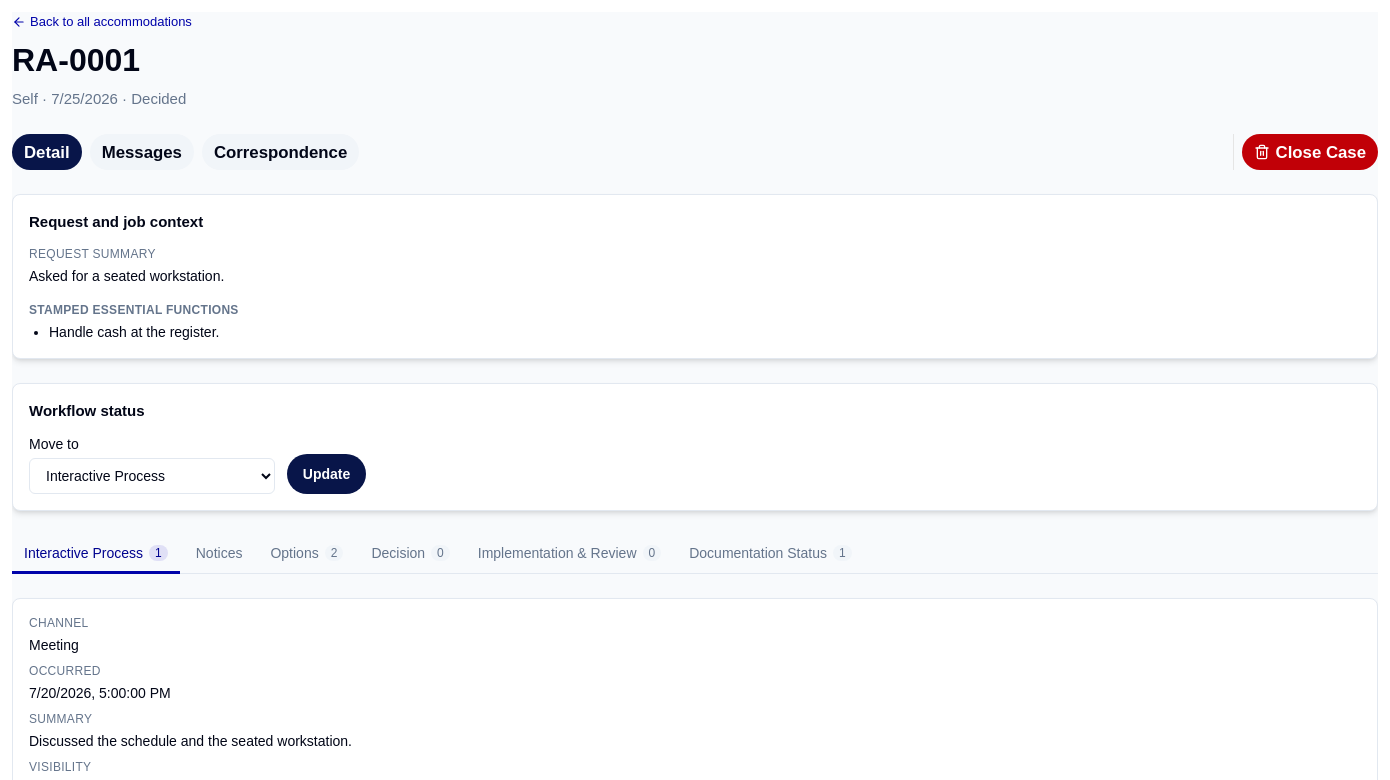
the restricted medical surface is Platform Admin / HR Partner only › renders the record-and-reveal surface for Platform Admin
The width and height of the screenshot is (1390, 780).
Click the tab "Documentation status 1" at (770, 555), box [677, 535, 864, 574]
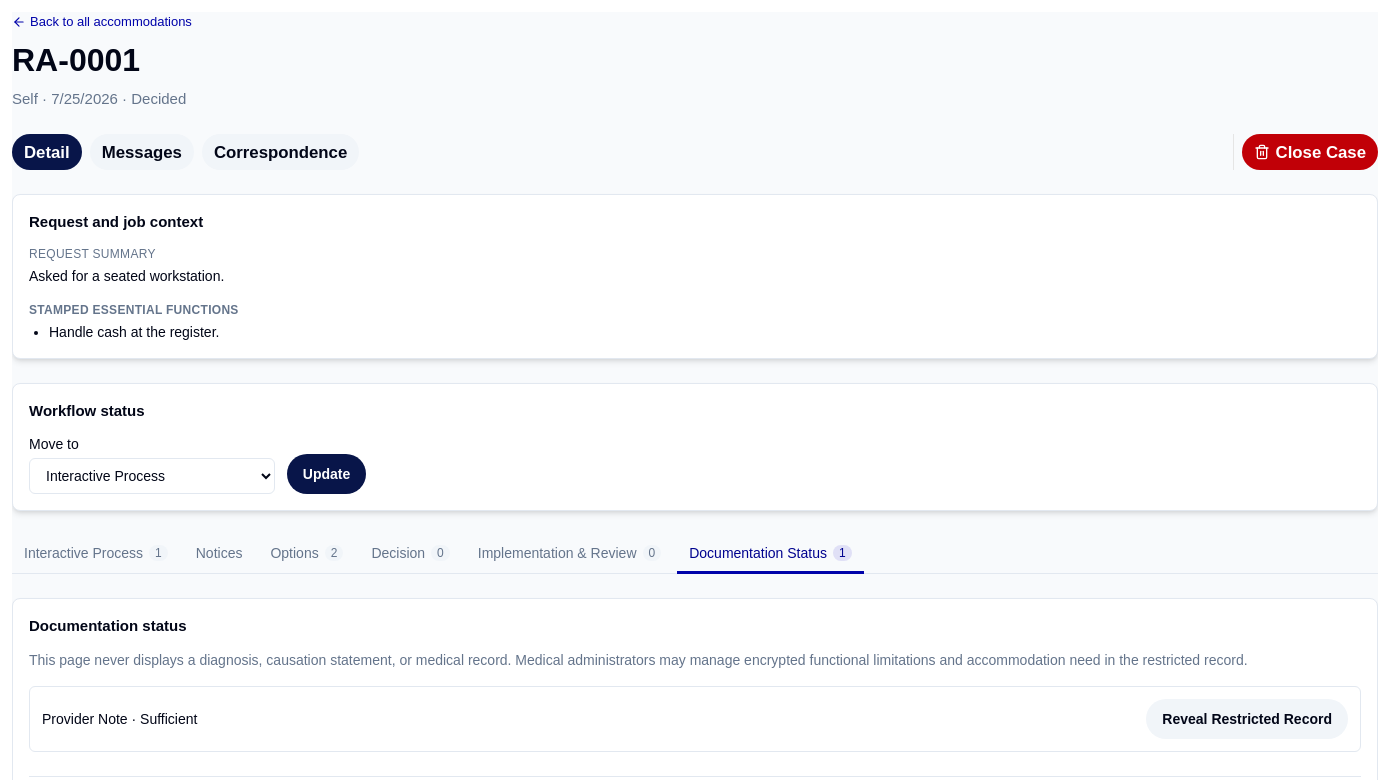
Expected: the button "Reveal Restricted Record" is shown, [1146, 699, 1348, 739]
